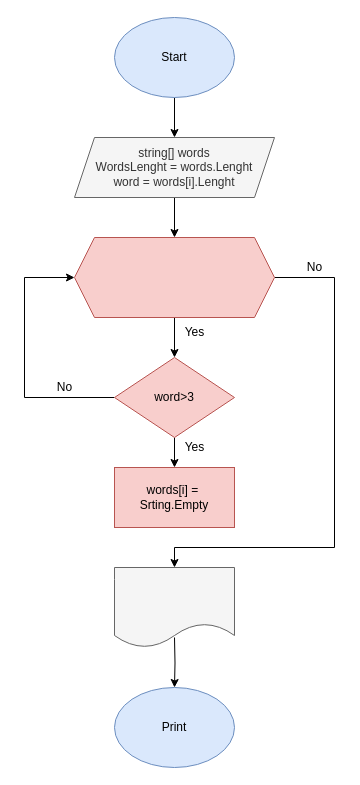
The diagram is 360 pixels wide and 785 high, and some of its shapes have lost their labels. The shapes that lost their labels are listed below. From the top down, each one's box as (x1, y1, x2, y2) in pixels, then its label:
(74, 236, 274, 318): i = 0, WordsLenght, 1
(114, 566, 234, 648): string[] words
